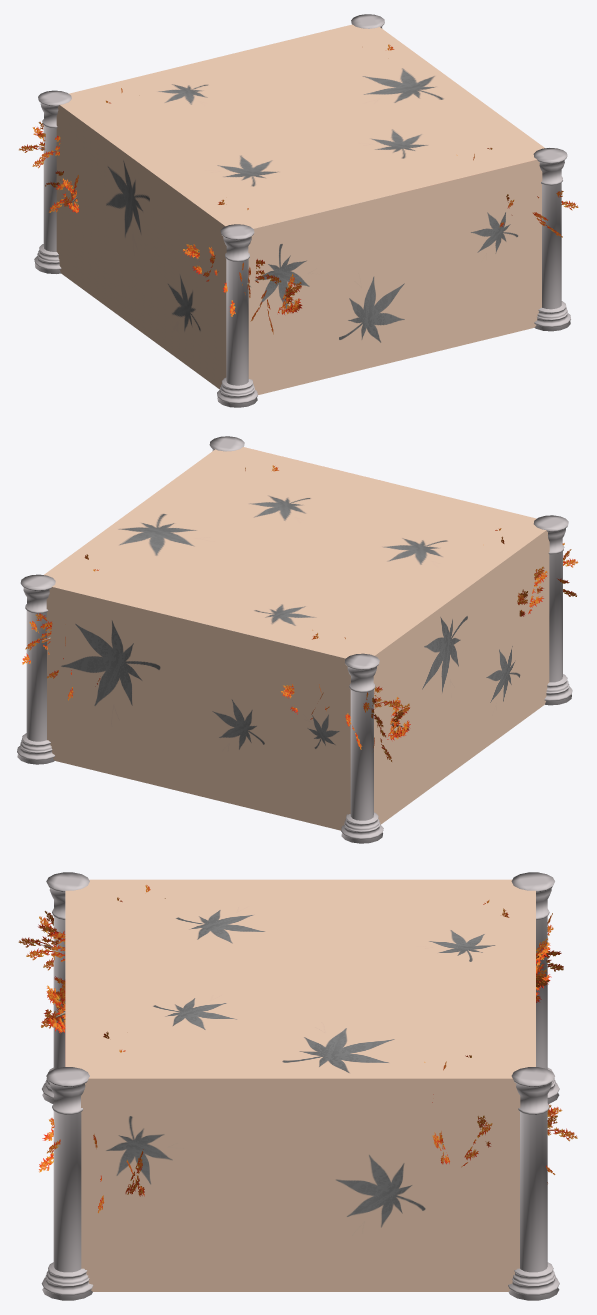
File: autumn_room.fbx
3 views of the same model, one above another, from view 1: azimuth 30°, elevation 25°; view 2: azimuth 150°, elevation 25°; view 3: azimuth 270°, elevation 25° (orthographic). The views are drawn at different scales.
Parts seen in each view (by area): view 1: stage.001; view 2: stage.001; view 3: stage.001.
Part boxes in pixels (x1,y1,x2,y2): stage.001: (19,14,578,407); stage.001: (17,436,578,843); stage.001: (18,872,577,1300).
Bounding box in the file's own units: 934 × 422 × 967.
